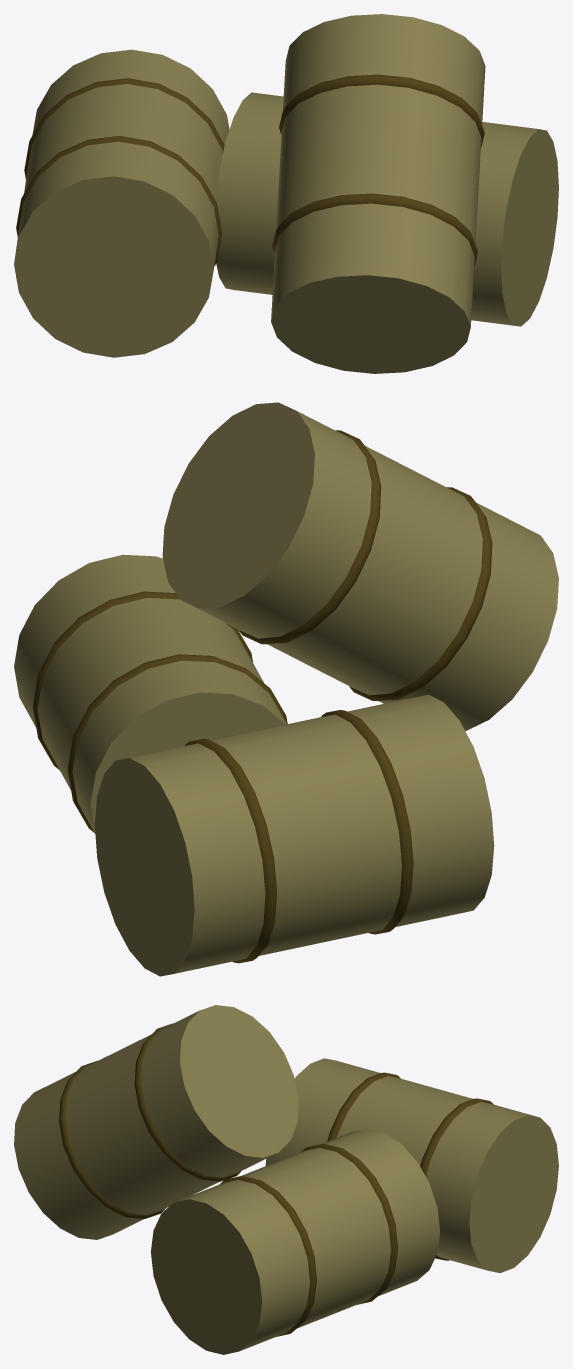
Rendered from Straw.fbx.
3 renders of one model, top to bottom at view 1: azimuth 30°, elevation 25°; view 2: azimuth 150°, elevation 25°; view 3: azimuth 270°, elevation 25°, orthographic. The views are drawn at different scales.
Visible parts, largest first — view 1: pCylinder5; view 2: pCylinder5; view 3: pCylinder5.
Boxes of the visible parts, x1=… form: pCylinder5: x1=14, y1=14, x2=558, y2=373; pCylinder5: x1=14, y1=402, x2=558, y2=976; pCylinder5: x1=14, y1=1005, x2=558, y2=1354.
Size of the model in its own units: 5.63 by 3.83 by 6.7.
